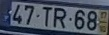4: (11, 3, 22, 24)
6: (73, 8, 86, 30)
7: (23, 4, 35, 26)
8: (85, 9, 98, 31)
R: (52, 6, 67, 29)
T: (41, 5, 53, 28)
